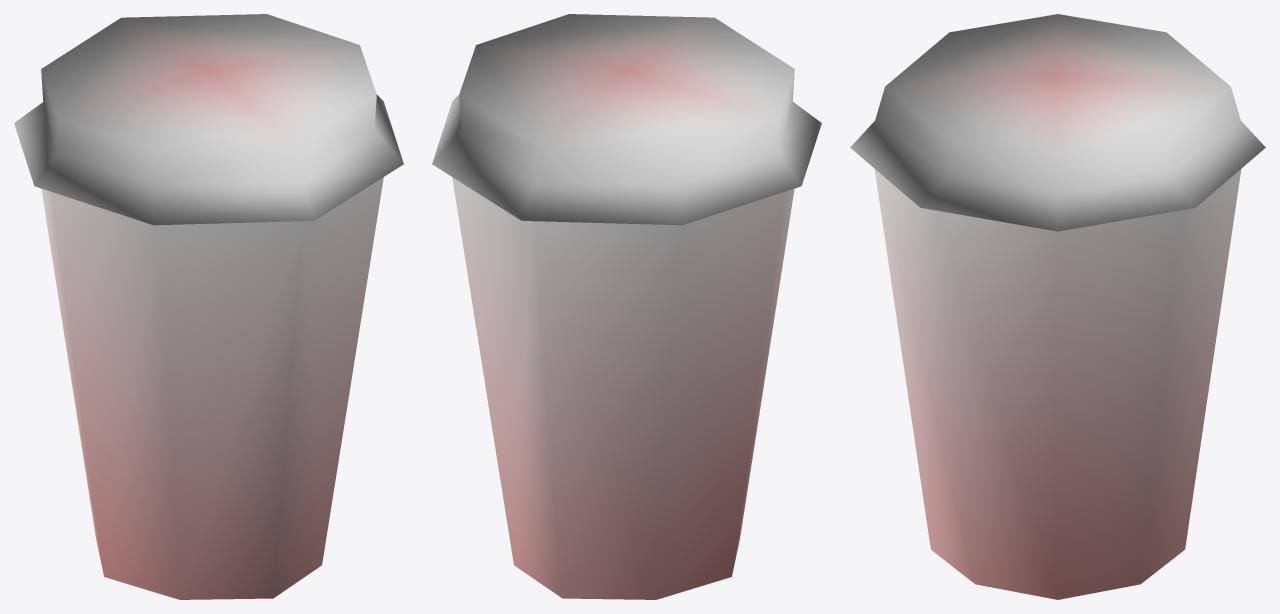
Rendered from PS1_CoffeePlaybucks.fbx.
3 views of the same model, side by side, from view 1: azimuth 30°, elevation 25°; view 2: azimuth 150°, elevation 25°; view 3: azimuth 270°, elevation 25° (orthographic).
Visible parts, largest first — view 1: CoffeePolybucks; view 2: CoffeePolybucks; view 3: CoffeePolybucks.
Part boxes in pixels (x1=…): CoffeePolybucks: x1=14, y1=14, x2=403, y2=599; CoffeePolybucks: x1=432, y1=14, x2=821, y2=599; CoffeePolybucks: x1=850, y1=14, x2=1265, y2=599.
Bounding box in the file's own units: 82.32 × 108 × 86.1.
